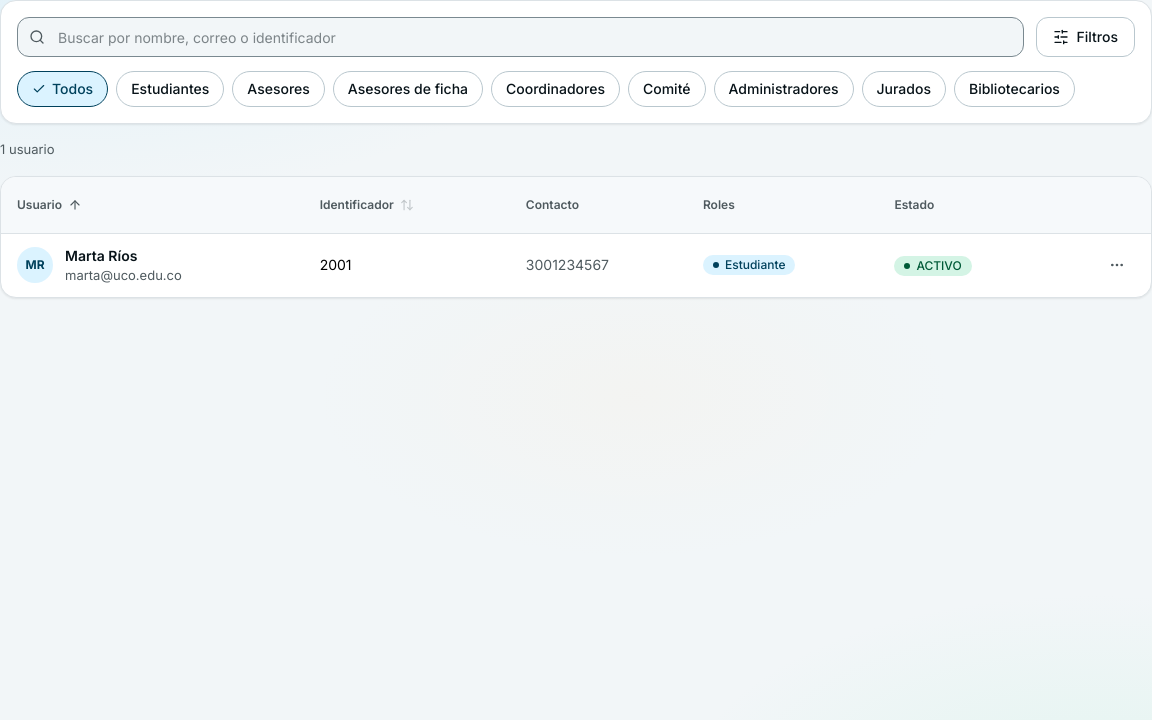
it: ConsultarUsuarios › catálogo de estados › deshabilita la sección y deja solo "Todos" mientras llega el catálogo
Click the button "Filtros" at (1085, 37), box [1036,17,1135,57]
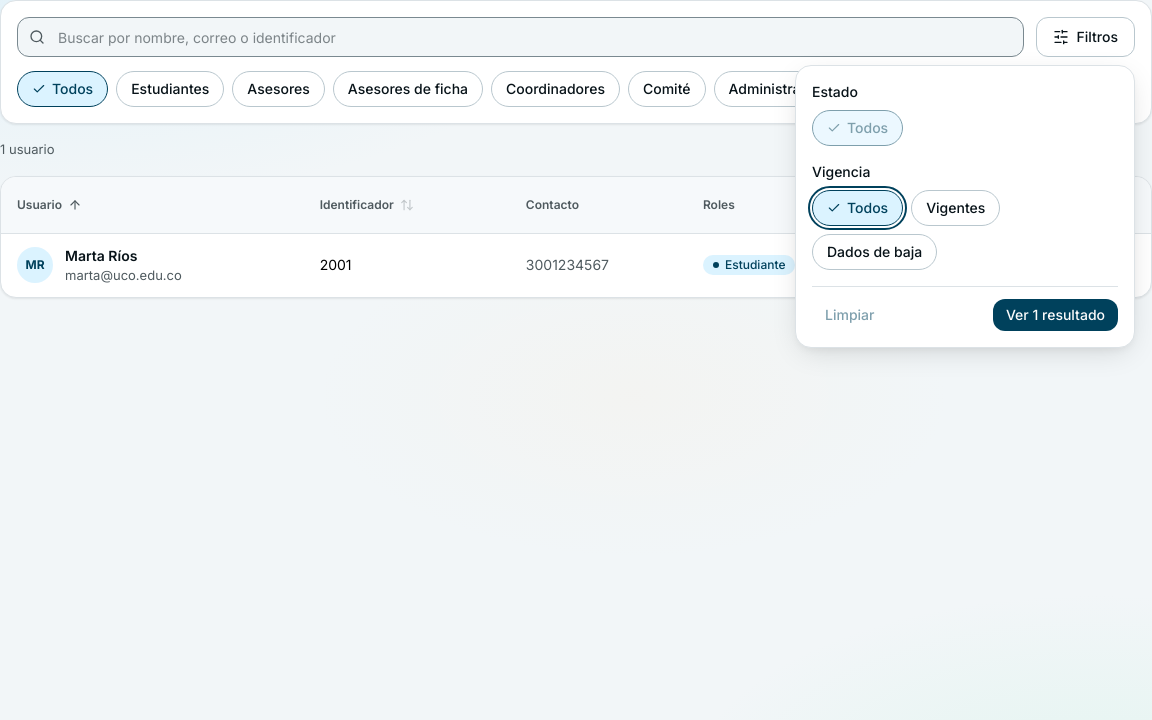
Expected: the 2nd button "Todos" is disabled, [812,110,903,146]
